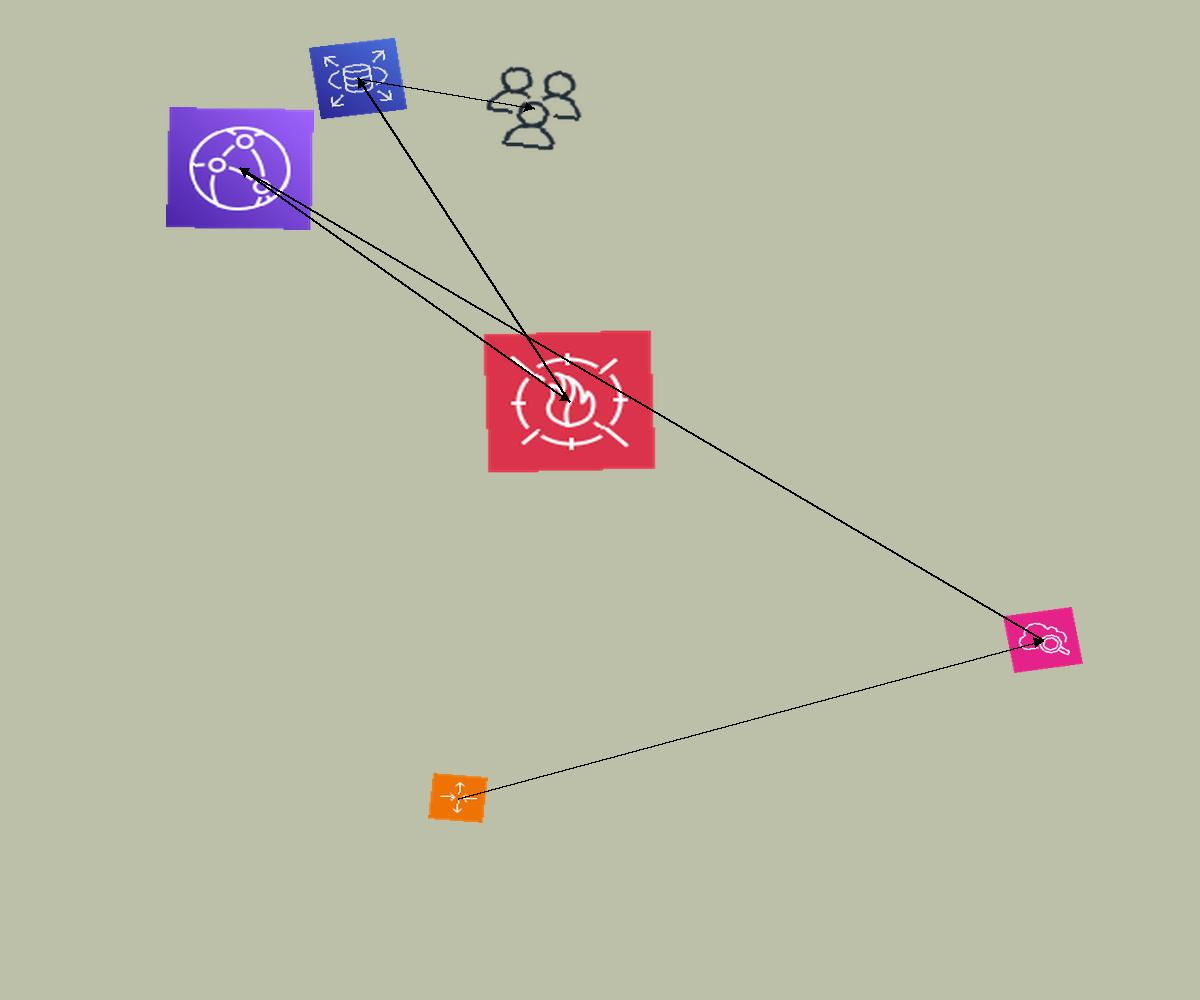AWS-CloudFront: (166, 107, 314, 230)
AWS-CloudWatch: (1003, 607, 1083, 673)
AWS-RDS: (308, 37, 408, 120)
AWS-Res_Users: (476, 60, 592, 157)
AWS-Scaling-group: (428, 773, 488, 823)
AWS-WAF: (482, 329, 657, 474)
